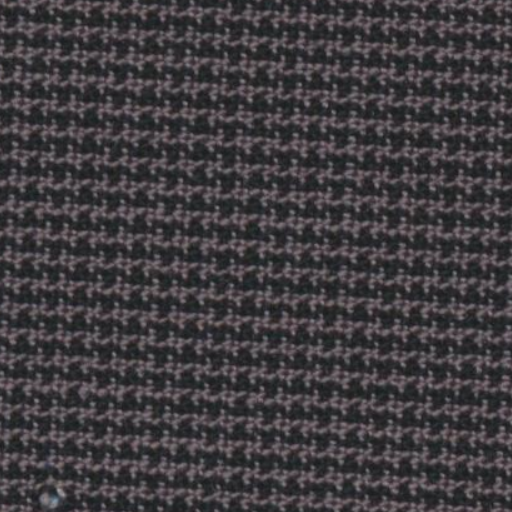PoDong: (17, 462, 86, 510)
